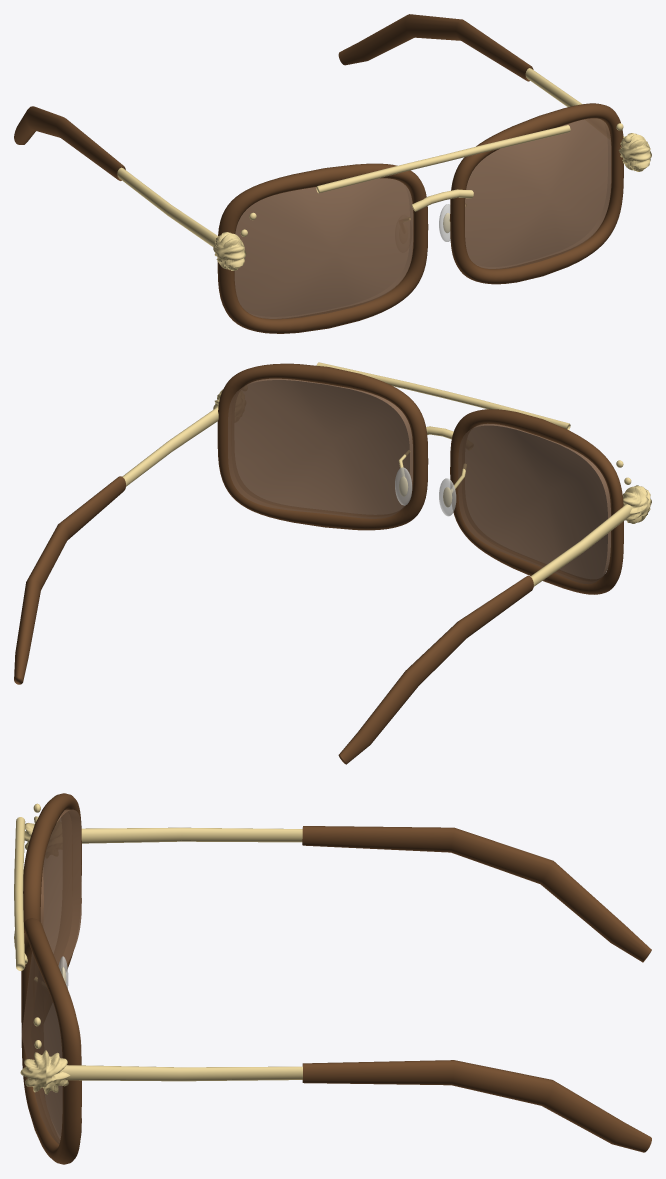
The model's file is oculos-01-imperial-leao.glb.
3 renders of one model, top to bottom at view 1: azimuth 30°, elevation 25°; view 2: azimuth 150°, elevation 25°; view 3: azimuth 270°, elevation 25°, orthographic. The views are drawn at different scales.
Parts seen in each view (by area): view 1: M01_Lens_L, M01_Lens_R, M01_Rim_L, M01_Rim_R, TempleTip_R, TempleTip_L, M01_TopBrowBar_Gold, TempleMetal_L, M01_LionHead_L, M01_LionHead_R, TempleMetal_R, M01_LowerBridge_Gold; view 2: M01_Lens_R, M01_Lens_L, M01_Rim_R, M01_Rim_L, TempleTip_L, TempleTip_R, M01_TopBrowBar_Gold, TempleMetal_L, TempleMetal_R, M01_LionHead_L; view 3: TempleTip_L, TempleTip_R, M01_Rim_R, M01_Lens_L, M01_Lens_R, TempleMetal_R, TempleMetal_L, M01_Rim_L, M01_TopBrowBar_Gold, M01_LionHead_R.
Part boxes in pixels (x1,y1,x2,y2): M01_Lens_L: (234,178,413,319); M01_Lens_R: (465,118,611,269); M01_Rim_L: (217,163,428,333); M01_Rim_R: (450,103,623,284); TempleTip_R: (338,14,533,81); TempleTip_L: (14,106,125,180); M01_TopBrowBar_Gold: (316,125,570,193); TempleMetal_L: (117,167,218,247); M01_LionHead_L: (213,232,246,270); M01_LionHead_R: (618,133,651,171); TempleMetal_R: (525,68,624,137); M01_LowerBridge_Gold: (412,189,473,211); M01_Lens_R: (228,378,412,518); M01_Lens_L: (458,423,610,584); M01_Rim_R: (217,363,428,530); M01_Rim_L: (450,409,623,594); TempleTip_L: (338,575,533,764); TempleTip_R: (14,476,125,684); M01_TopBrowBar_Gold: (316,362,570,429); TempleMetal_L: (530,504,632,586); TempleMetal_R: (122,406,218,486); M01_LionHead_L: (622,485,651,523); TempleTip_L: (302,826,651,962); TempleTip_R: (302,1060,651,1152); M01_Rim_R: (21,918,81,1164); M01_Lens_L: (40,809,81,970); M01_Lens_R: (21,952,81,1144); TempleMetal_R: (61,1065,302,1081); TempleMetal_L: (81,827,302,843); M01_Rim_L: (23,793,81,971); M01_TopBrowBar_Gold: (14,817,25,970); M01_LionHead_R: (20,1050,70,1094).
Bounding box in the file's own units: 0.1427 × 0.0506 × 0.1535.
